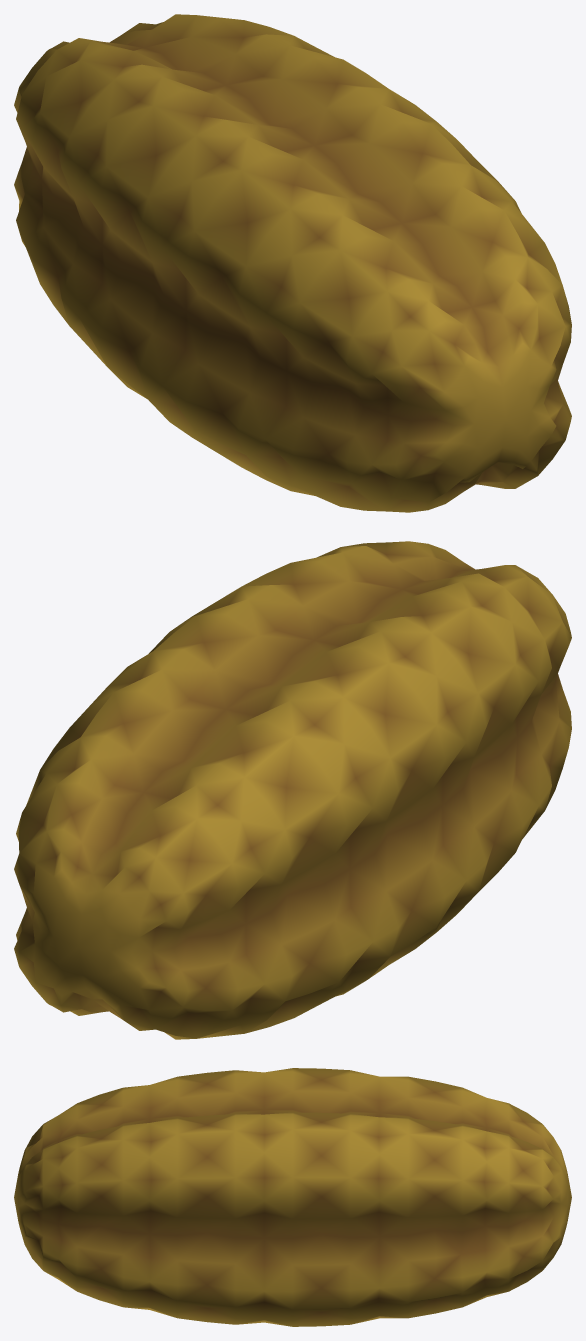
Rendered from microscopic-pollen-spores-lily-pollen_v1.fbx.
3 renders of one model, top to bottom at view 1: azimuth 30°, elevation 25°; view 2: azimuth 150°, elevation 25°; view 3: azimuth 270°, elevation 25°, orthographic. The views are drawn at different scales.
Visible parts, largest first — view 1: Lily Pollen; view 2: Lily Pollen; view 3: Lily Pollen.
Part boxes in pixels (box(x1,y1,x2,y2)): Lily Pollen: box(14, 14, 571, 512); Lily Pollen: box(14, 541, 571, 1039); Lily Pollen: box(14, 1068, 571, 1326).
Size of the model in its own units: 0.0413 by 0.0413 by 0.1.
